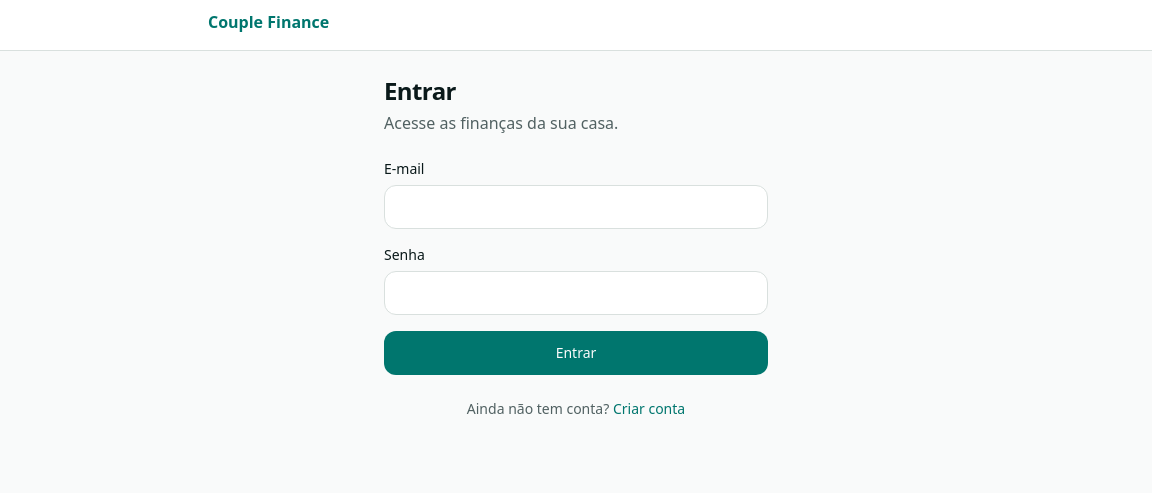
Test: authentication flow › shows a neutral message for wrong credentials
Type "alex@example.com" into the field labelled "E-mail" at point(576, 207), box [384, 185, 768, 229]
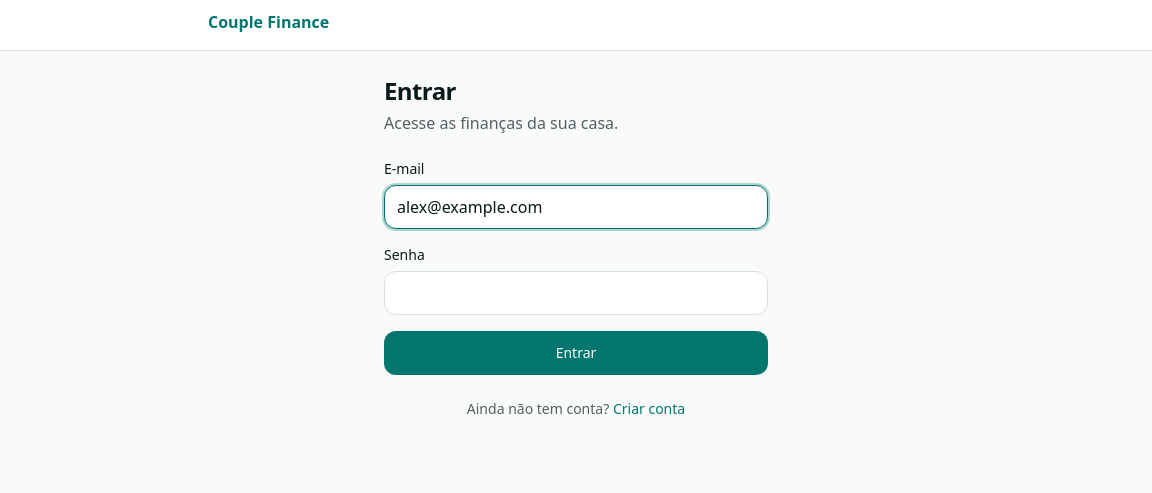
Type "wrong password" into the password field labelled "Senha" at point(576, 293), box [384, 271, 768, 315]
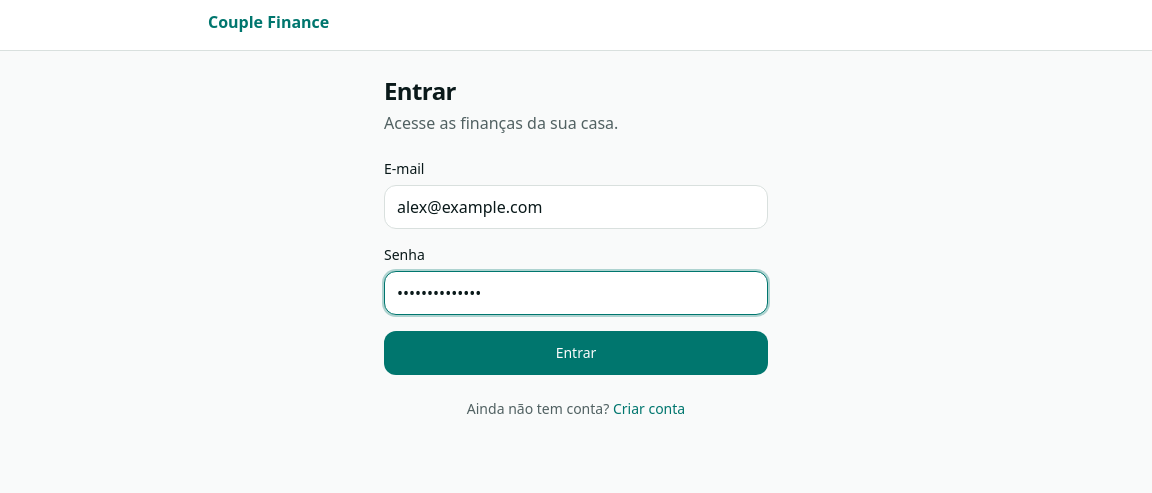
Click the button "Entrar" at point(576, 353), box [384, 331, 768, 375]
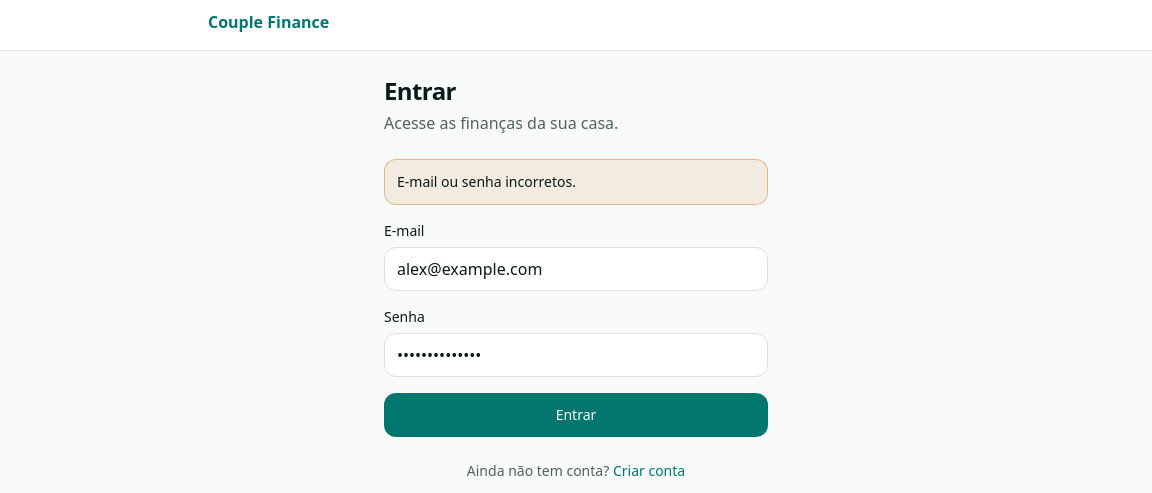
Expected: the message reads "E-mail ou senha incorretos.", [397, 172, 576, 191]
